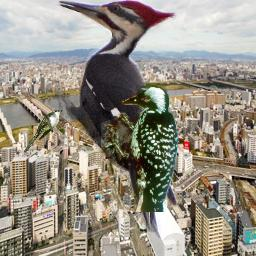Cuckoo: (23, 109, 63, 154)
Woodpecker: (55, 0, 179, 238), (101, 83, 178, 212)
